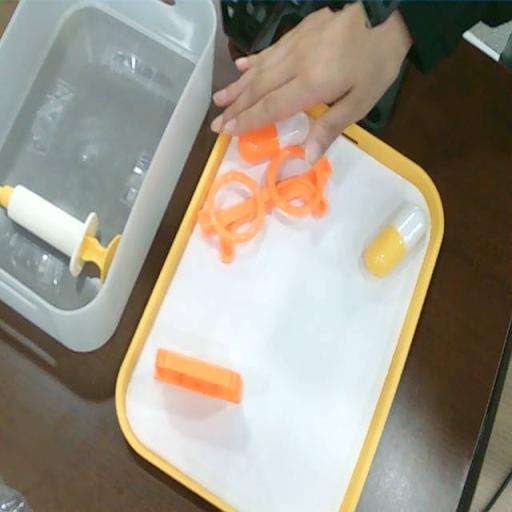hospital: (208, 21, 401, 168)
